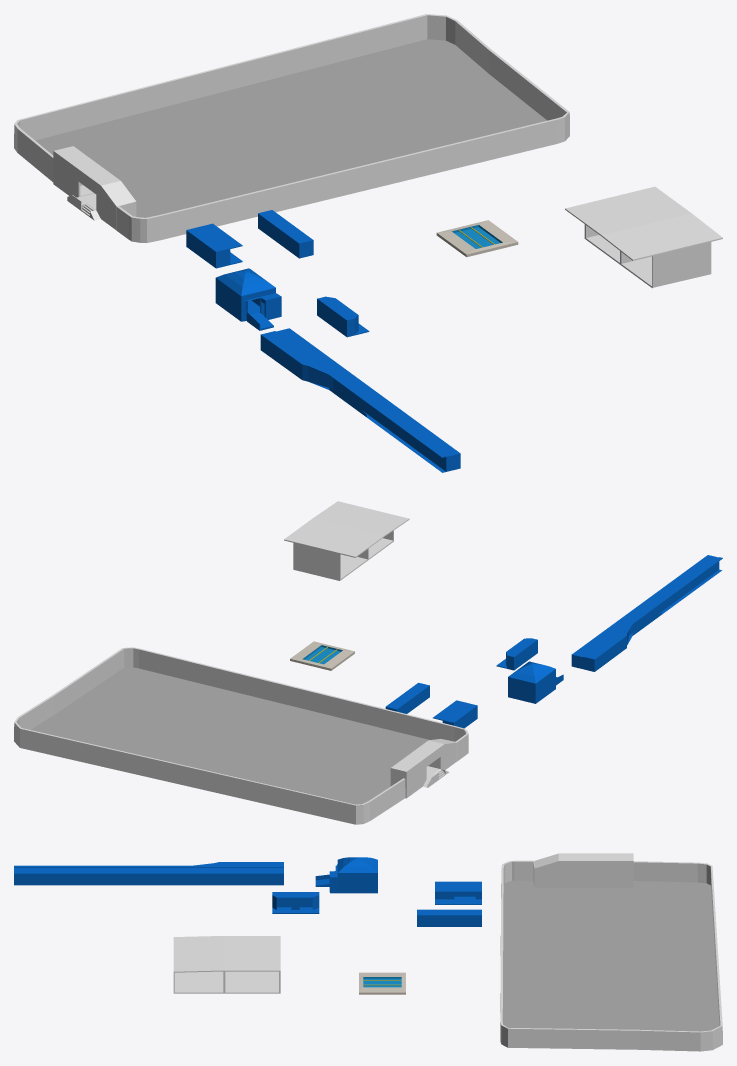
Rendered from separado.fbx.
The picture shows the model from 3 angles, top to bottom: view 1: azimuth 30°, elevation 25°; view 2: azimuth 150°, elevation 25°; view 3: azimuth 270°, elevation 25°; orthographic projection. The views are drawn at different scales.
Parts seen in each view (by area): view 1: Cube.002, Plane.001, Cube.001, Cube.006, Cube.004, Plane.002, Cube.005, Cube, Cube.003; view 2: Cube.002, Plane.001, Cube.001, Cube.006, Cube.004, Plane.002, Cube.005, Cube.003, Cube; view 3: Cube.002, Plane.001, Cube.006, Cube.004, Cube.001, Cube, Cube.005, Plane.002, Cube.003.
Part boxes in pixels (x1,y1,x2,y2): Cube.002: (14, 14, 569, 242); Plane.001: (565, 186, 722, 288); Cube.001: (260, 329, 446, 472); Cube.006: (276, 328, 460, 471); Cube.004: (215, 268, 281, 330); Plane.002: (436, 220, 518, 257); Cube.005: (186, 223, 242, 268); Cube: (258, 210, 313, 258); Cube.003: (317, 296, 369, 337); Cube.002: (14, 647, 468, 824); Plane.001: (284, 501, 409, 580); Cube.001: (573, 557, 722, 671); Cube.006: (571, 555, 719, 668); Cube.004: (508, 661, 563, 703); Plane.002: (290, 641, 354, 670); Cube.005: (433, 700, 477, 728); Cube.003: (496, 638, 537, 670); Cube: (385, 682, 429, 713); Cube.002: (500, 853, 722, 1051); Plane.001: (173, 936, 280, 993); Cube.006: (14, 868, 283, 885); Cube.004: (315, 857, 377, 893); Cube.001: (14, 862, 283, 873); Cube: (417, 909, 481, 926); Cube.005: (435, 881, 481, 904); Plane.002: (359, 972, 405, 994); Cube.003: (272, 892, 319, 913).
Size of the model in its own units: 6436 by 976 by 10868.
